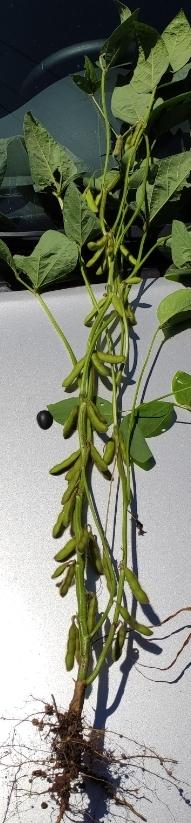soja: (77, 441, 117, 477), (114, 606, 153, 641), (46, 444, 84, 479), (102, 544, 127, 597), (62, 490, 91, 529), (57, 464, 84, 505), (124, 565, 150, 606), (96, 341, 129, 373), (61, 351, 88, 388), (58, 568, 88, 599), (85, 355, 112, 388), (97, 430, 121, 467), (80, 294, 108, 325), (113, 599, 139, 631), (65, 452, 91, 484), (63, 622, 79, 670), (85, 246, 110, 275), (84, 406, 108, 436), (63, 402, 80, 443), (107, 129, 129, 160), (57, 534, 80, 563), (44, 557, 74, 579), (122, 271, 148, 296), (110, 294, 134, 321), (85, 596, 101, 634), (80, 189, 103, 214), (90, 227, 110, 253), (77, 530, 99, 551), (93, 547, 106, 579)
